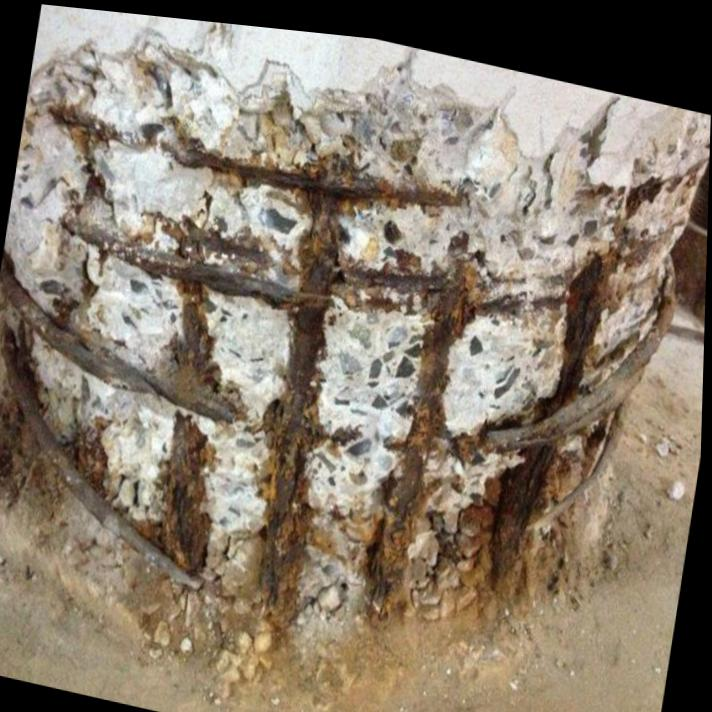damage: (0, 29, 711, 649)
